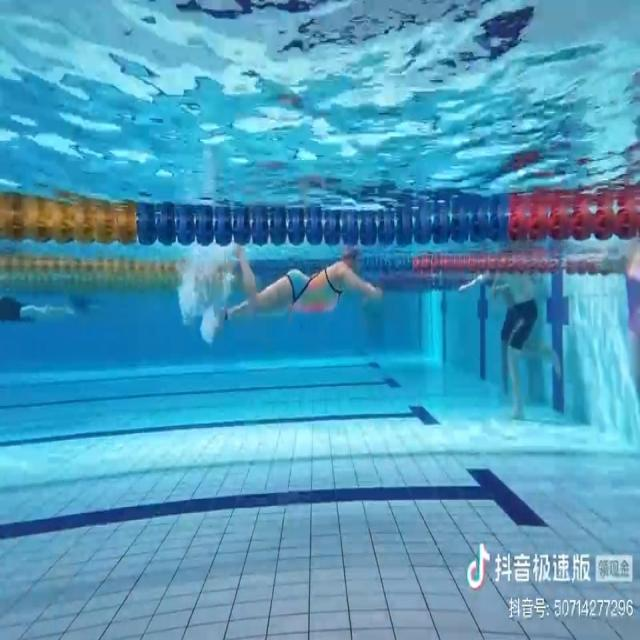Swimming: (219, 244, 384, 323)
